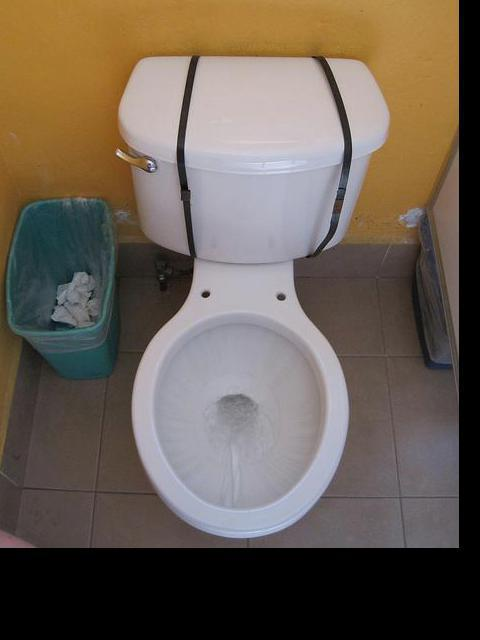Bote de Basura: (2, 197, 128, 388)
Sanitario: (102, 52, 384, 527)
